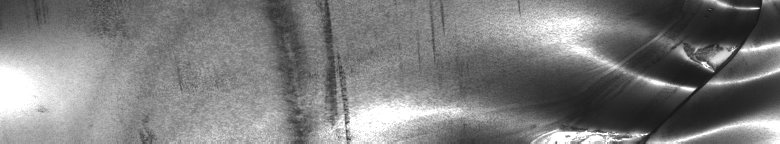ke: (433, 4, 776, 136)
